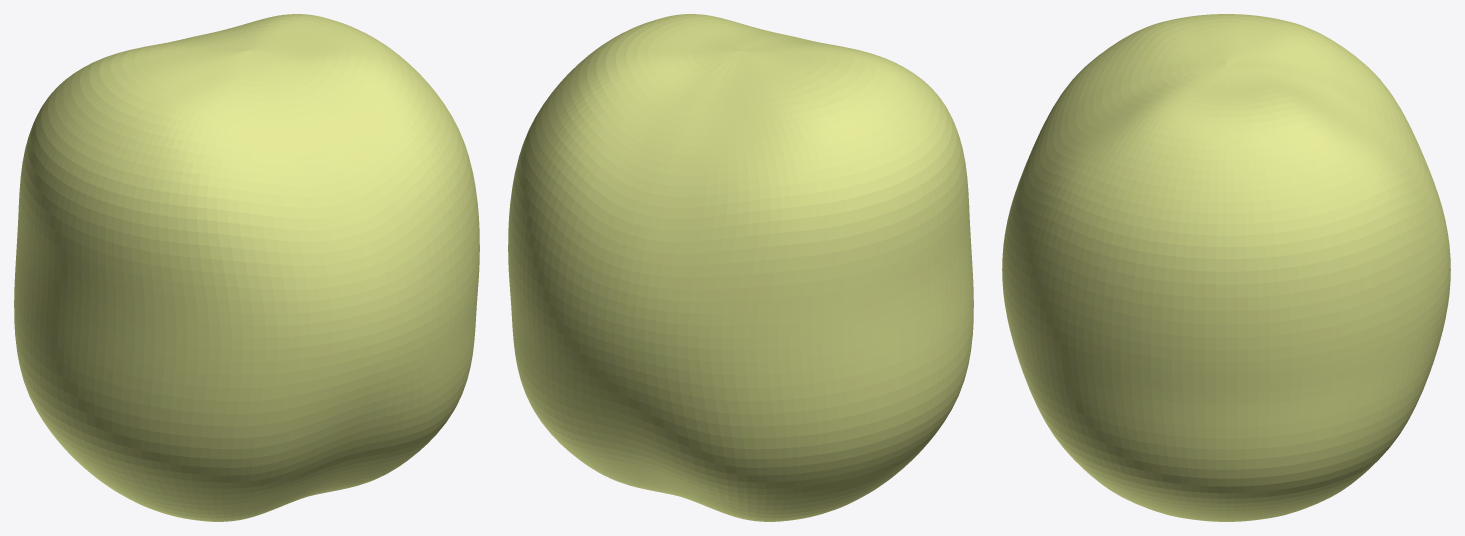
File: Pottasium_Oxidised.fbx
The picture shows the model from 3 angles, left to right: view 1: azimuth 30°, elevation 25°; view 2: azimuth 150°, elevation 25°; view 3: azimuth 270°, elevation 25°; orthographic projection. The views are drawn at different scales.
Visible parts, largest first — view 1: Sphere.520; view 2: Sphere.520; view 3: Sphere.520.
Boxes of the visible parts, box(x1,y1,x2,y2) form: Sphere.520: box(14, 14, 479, 521); Sphere.520: box(508, 14, 973, 521); Sphere.520: box(1002, 14, 1450, 521).
Size of the model in its own units: 29.19 by 29.79 by 28.85.
